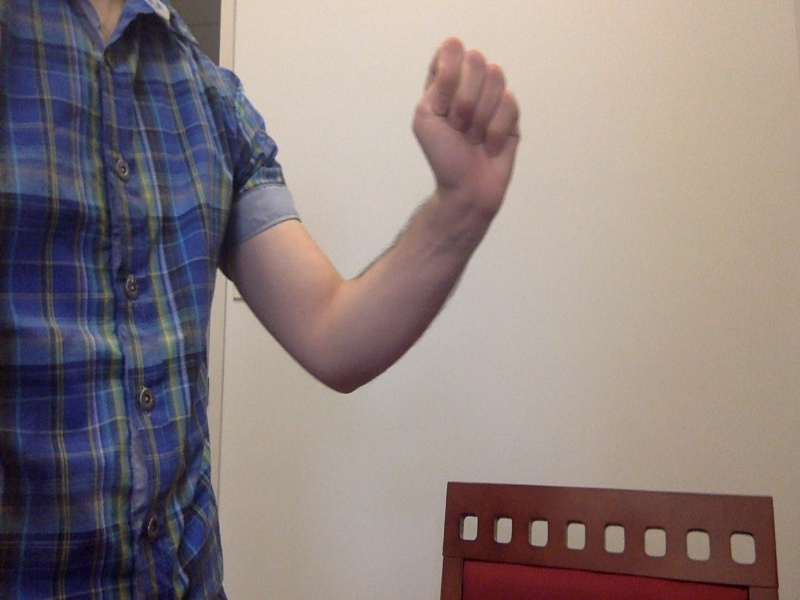0-hand: (409, 38, 535, 203)
